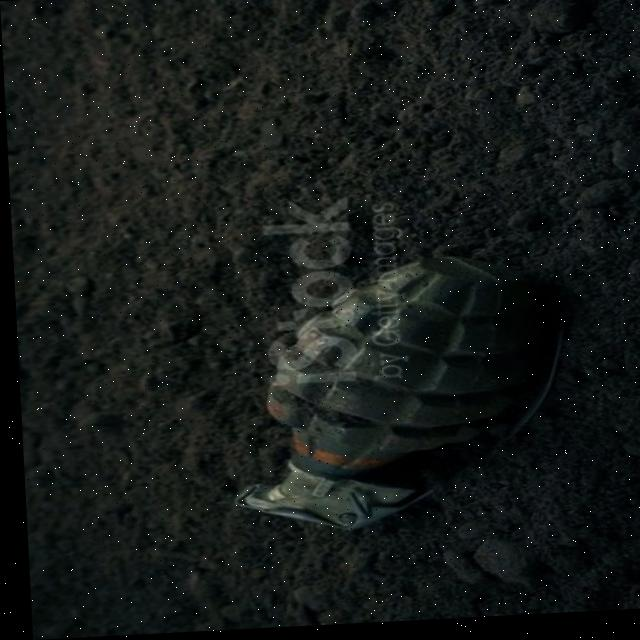grenade: (204, 251, 555, 533)
